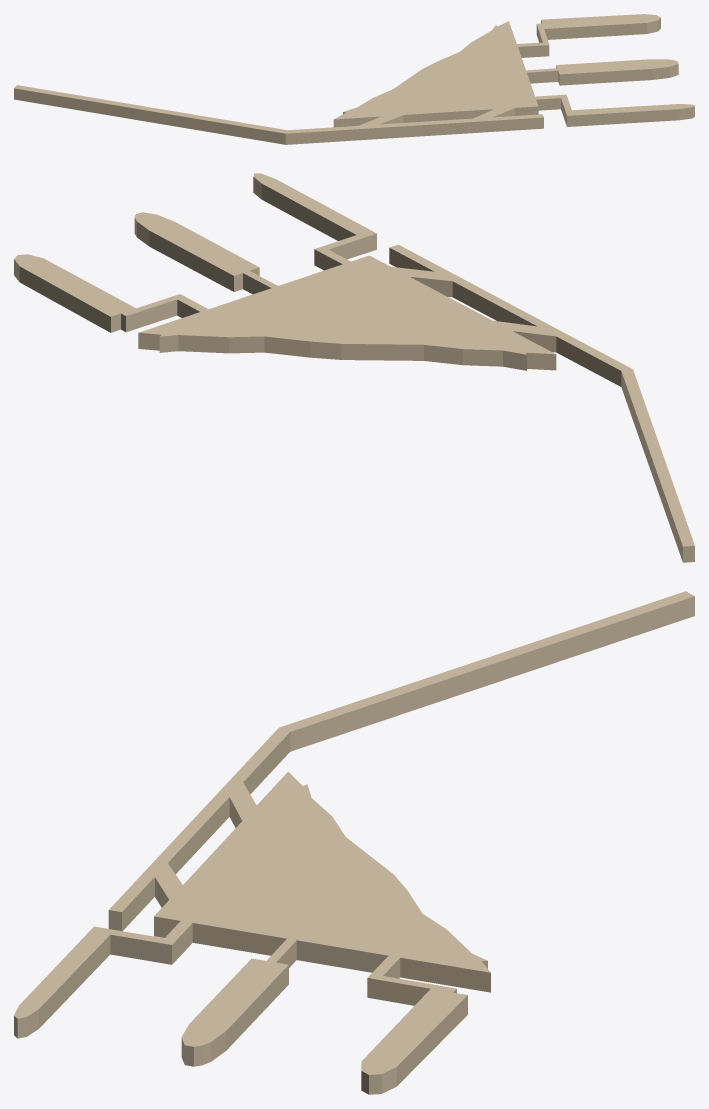
Rendered from -12_-8-estimated-coarse.glb.
The picture shows the model from 3 angles, top to bottom: view 1: azimuth 30°, elevation 25°; view 2: azimuth 150°, elevation 25°; view 3: azimuth 270°, elevation 25°; orthographic projection. The views are drawn at different scales.
Bounding box in the file's own units: 627 × 12 × 373.
